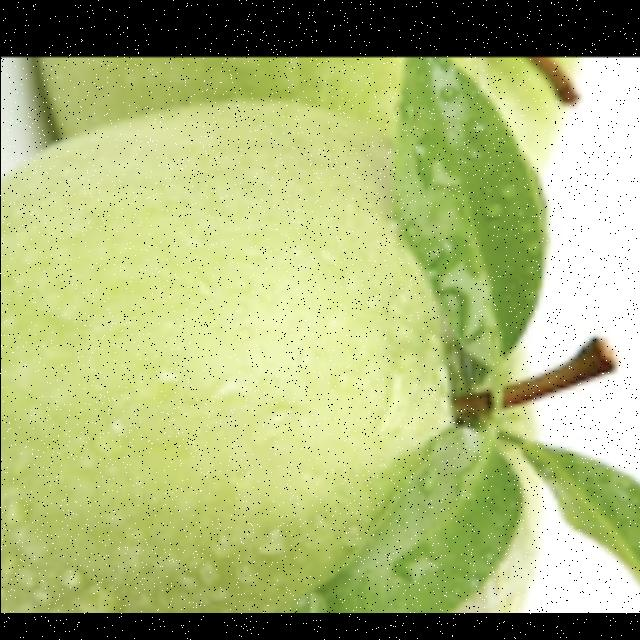Apel Segar: (0, 83, 554, 612)
